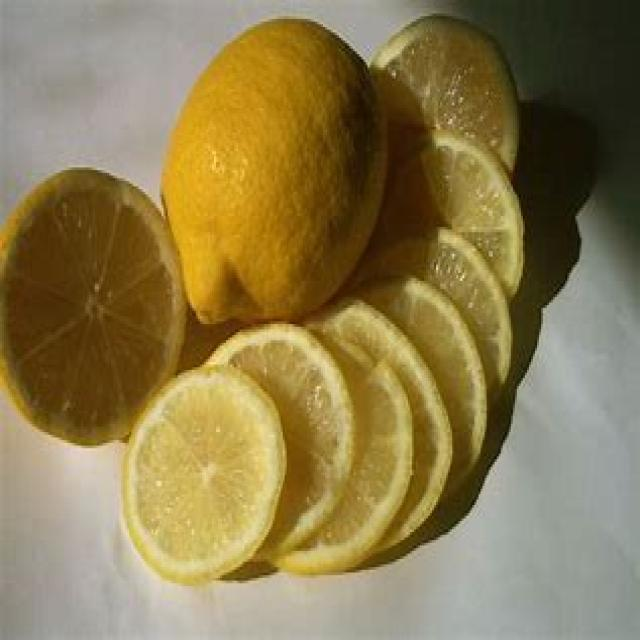lemon: (149, 9, 392, 337), (0, 156, 197, 450)
